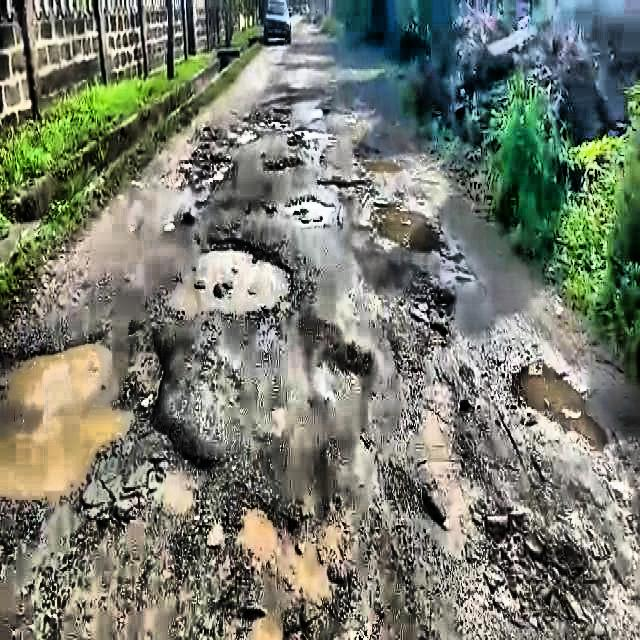buraco: (0, 332, 227, 511), (210, 493, 352, 632), (464, 503, 595, 636), (168, 234, 306, 322), (504, 358, 616, 447), (370, 204, 446, 258), (162, 156, 232, 192), (284, 198, 334, 228), (316, 176, 376, 190), (361, 158, 404, 176)
